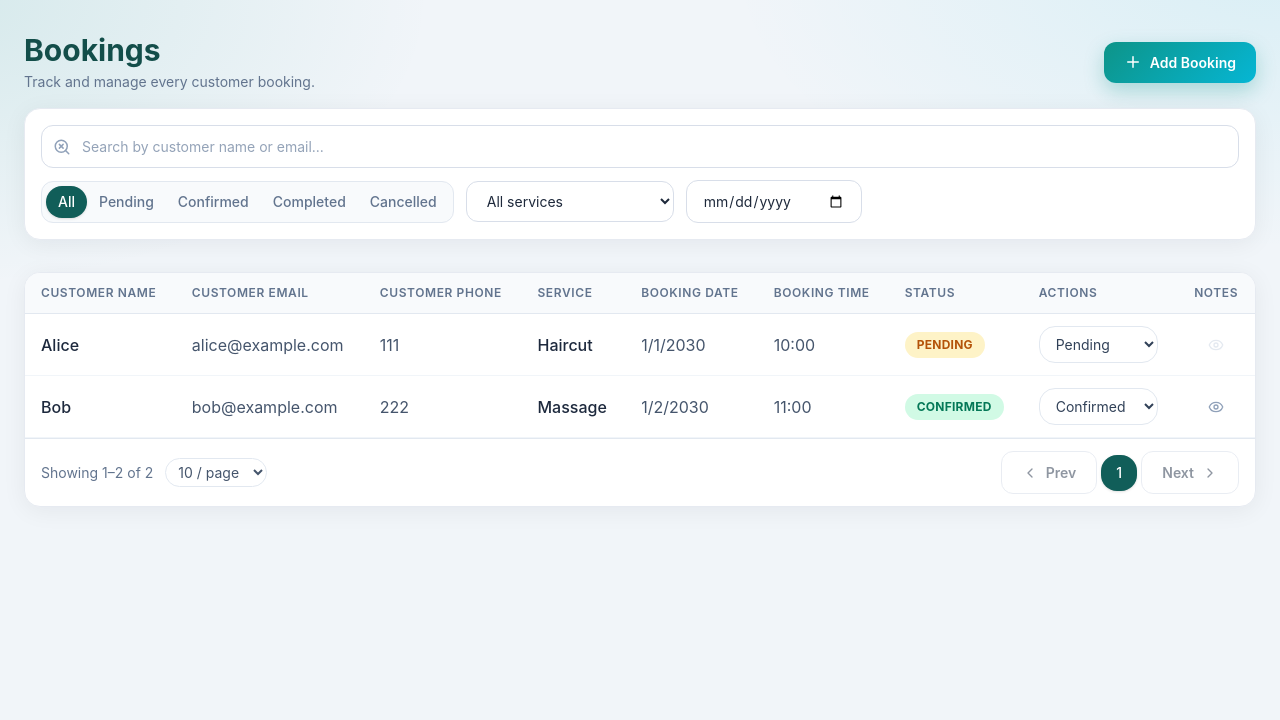
Bookings Page › filters bookings by status
Expected: the text "Alice" is shown, [25,314,176,376]
Click the button "Confirmed" at (213, 202), box [166,186,261,218]
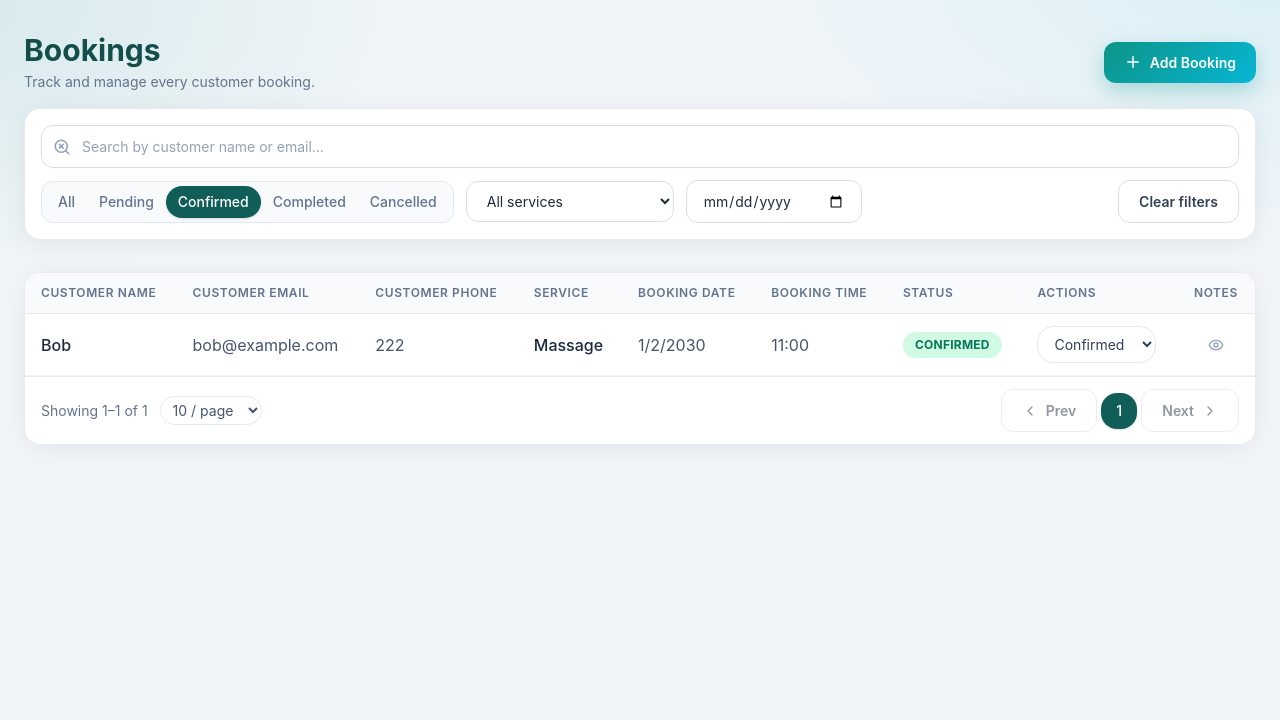
Expected: the text "Bob" is shown, [25,314,176,376]
Result: the text "Alice" is gone
